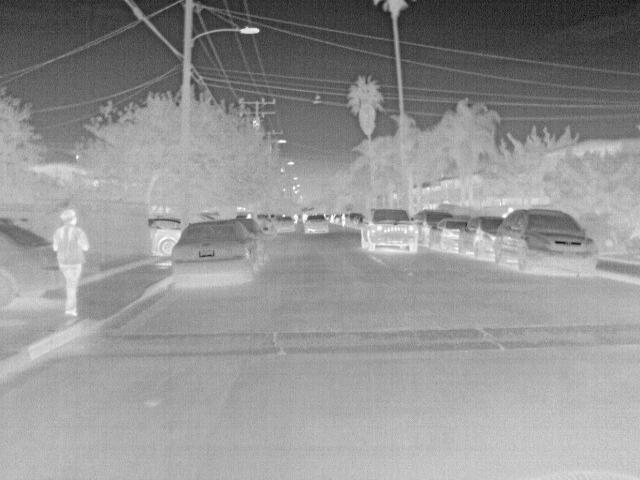car: (494, 207, 600, 278), (171, 219, 259, 287), (1, 220, 65, 312), (360, 206, 421, 254), (459, 214, 509, 260), (412, 209, 454, 249), (234, 218, 270, 264), (431, 218, 468, 253), (148, 217, 182, 255), (304, 213, 330, 234), (274, 215, 298, 234), (346, 213, 364, 229)
person: (55, 209, 91, 317), (342, 212, 350, 227)
